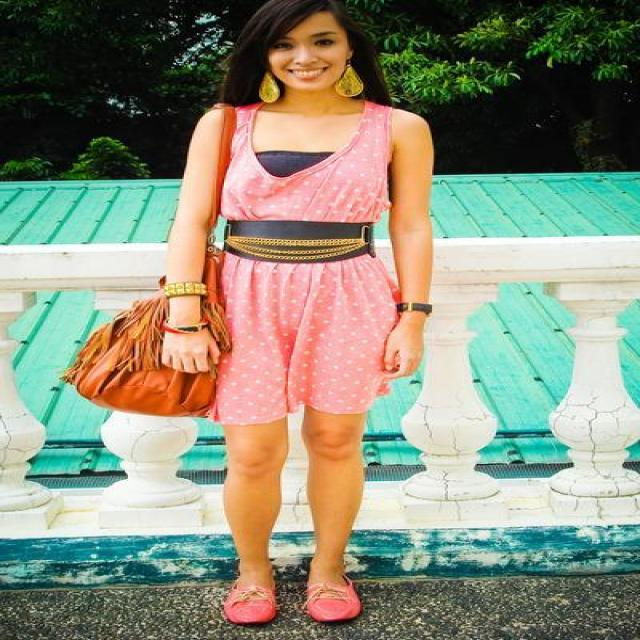bag: (61, 104, 261, 419)
dress: (194, 101, 402, 432)
shoe: (222, 591, 358, 621)
